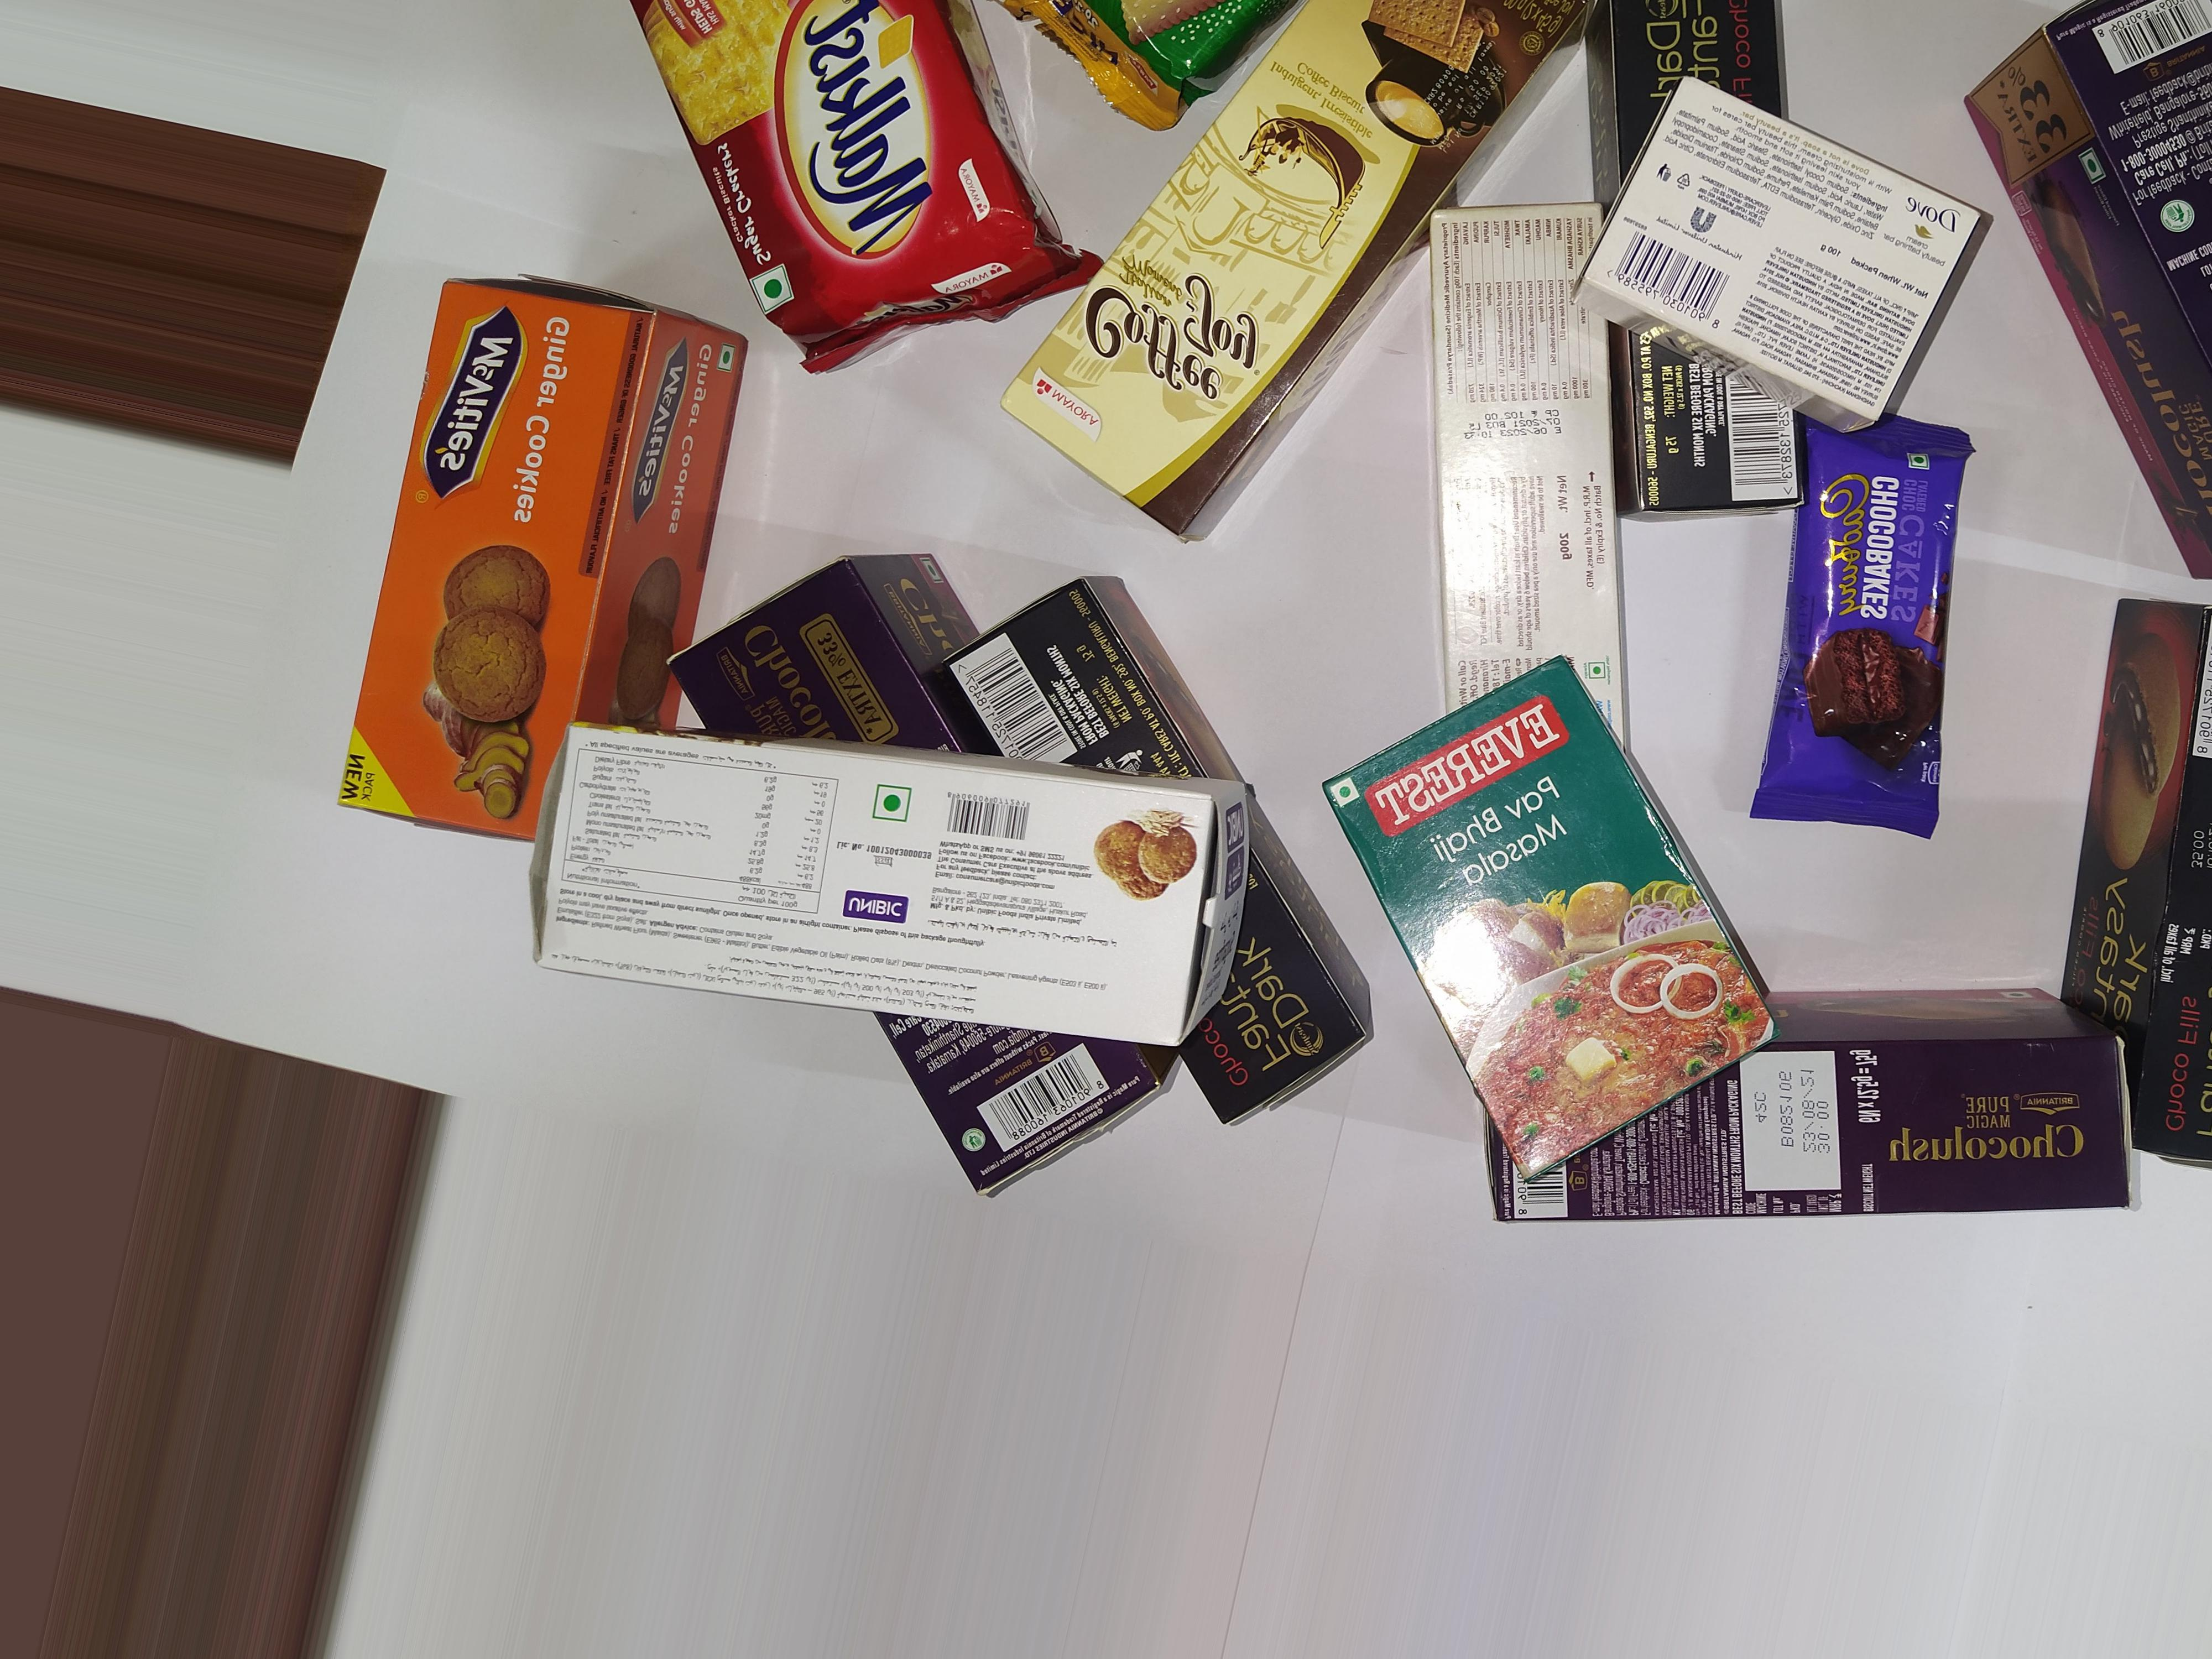Bar_code: (1597, 227, 1726, 331), (1493, 1127, 1597, 1246), (2081, 7, 2212, 91), (939, 784, 1049, 852)
Item: (528, 711, 1263, 1068), (1327, 674, 1764, 1190), (394, 270, 725, 836), (1400, 993, 2179, 1220), (631, 2, 1087, 382), (1406, 190, 1679, 748), (1947, 0, 2212, 570), (1597, 99, 1972, 439), (1747, 385, 1991, 884)
